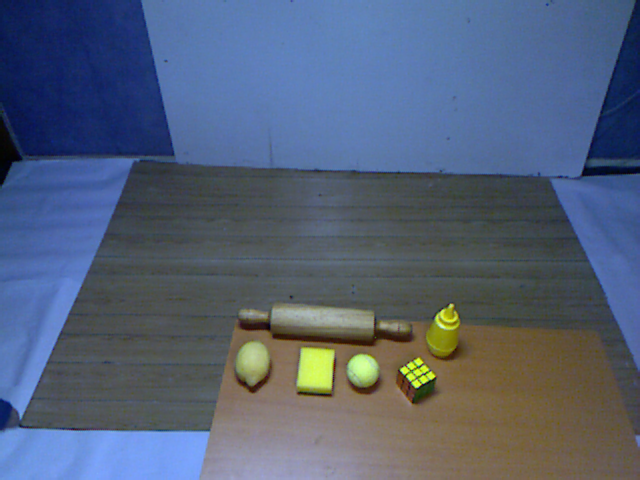cubix: (391, 351, 441, 408)
esponja: (290, 341, 340, 402)
limon: (232, 334, 275, 395)
mostaza: (423, 298, 466, 365)
pelota: (343, 349, 384, 394)
uslero: (234, 295, 419, 351)
